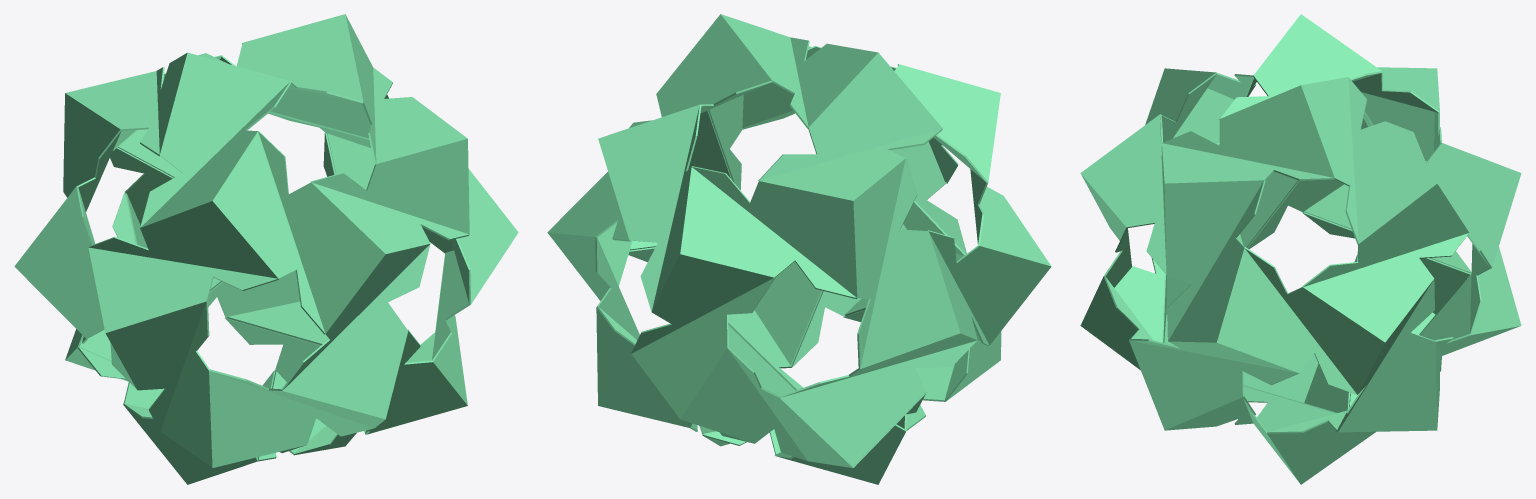
The model's file is Dodecahedron2.glb.
3 renders of one model, left to right at view 1: azimuth 30°, elevation 25°; view 2: azimuth 150°, elevation 25°; view 3: azimuth 270°, elevation 25°, orthographic. The views are drawn at different scales.
Parts seen in each view (by area): view 1: root; view 2: root; view 3: root.
Part boxes in pixels (bbox=[...]): root: bbox=[14, 14, 518, 484]; root: bbox=[547, 14, 1051, 484]; root: bbox=[1080, 14, 1521, 484].
Size of the model in its own units: 2.62 by 2.62 by 2.62.
